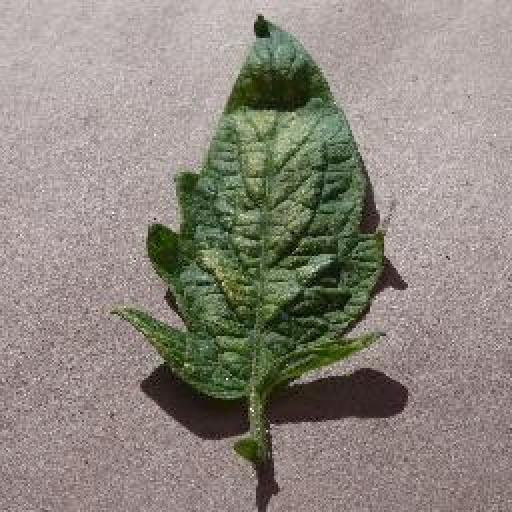disease_tomato: (111, 16, 389, 398)
